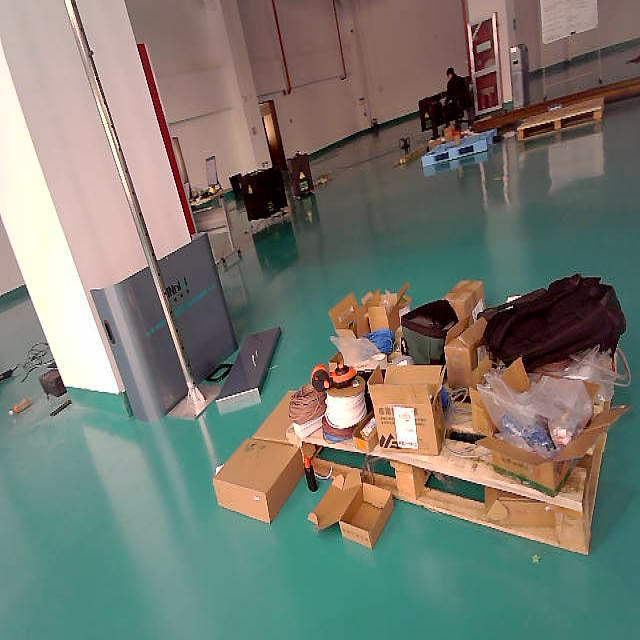euro: (301, 275, 625, 553)
